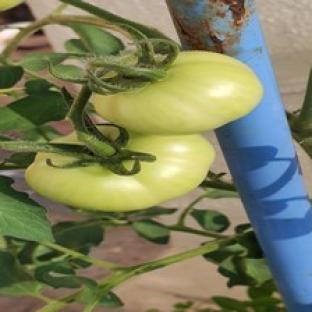Tomato: (26, 134, 214, 211), (94, 52, 263, 135)
